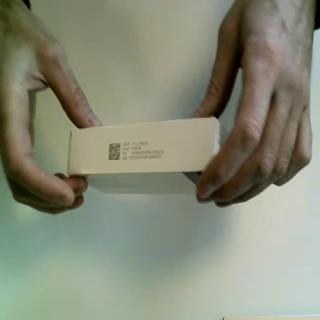ultiva5mg: (66, 115, 232, 198)
